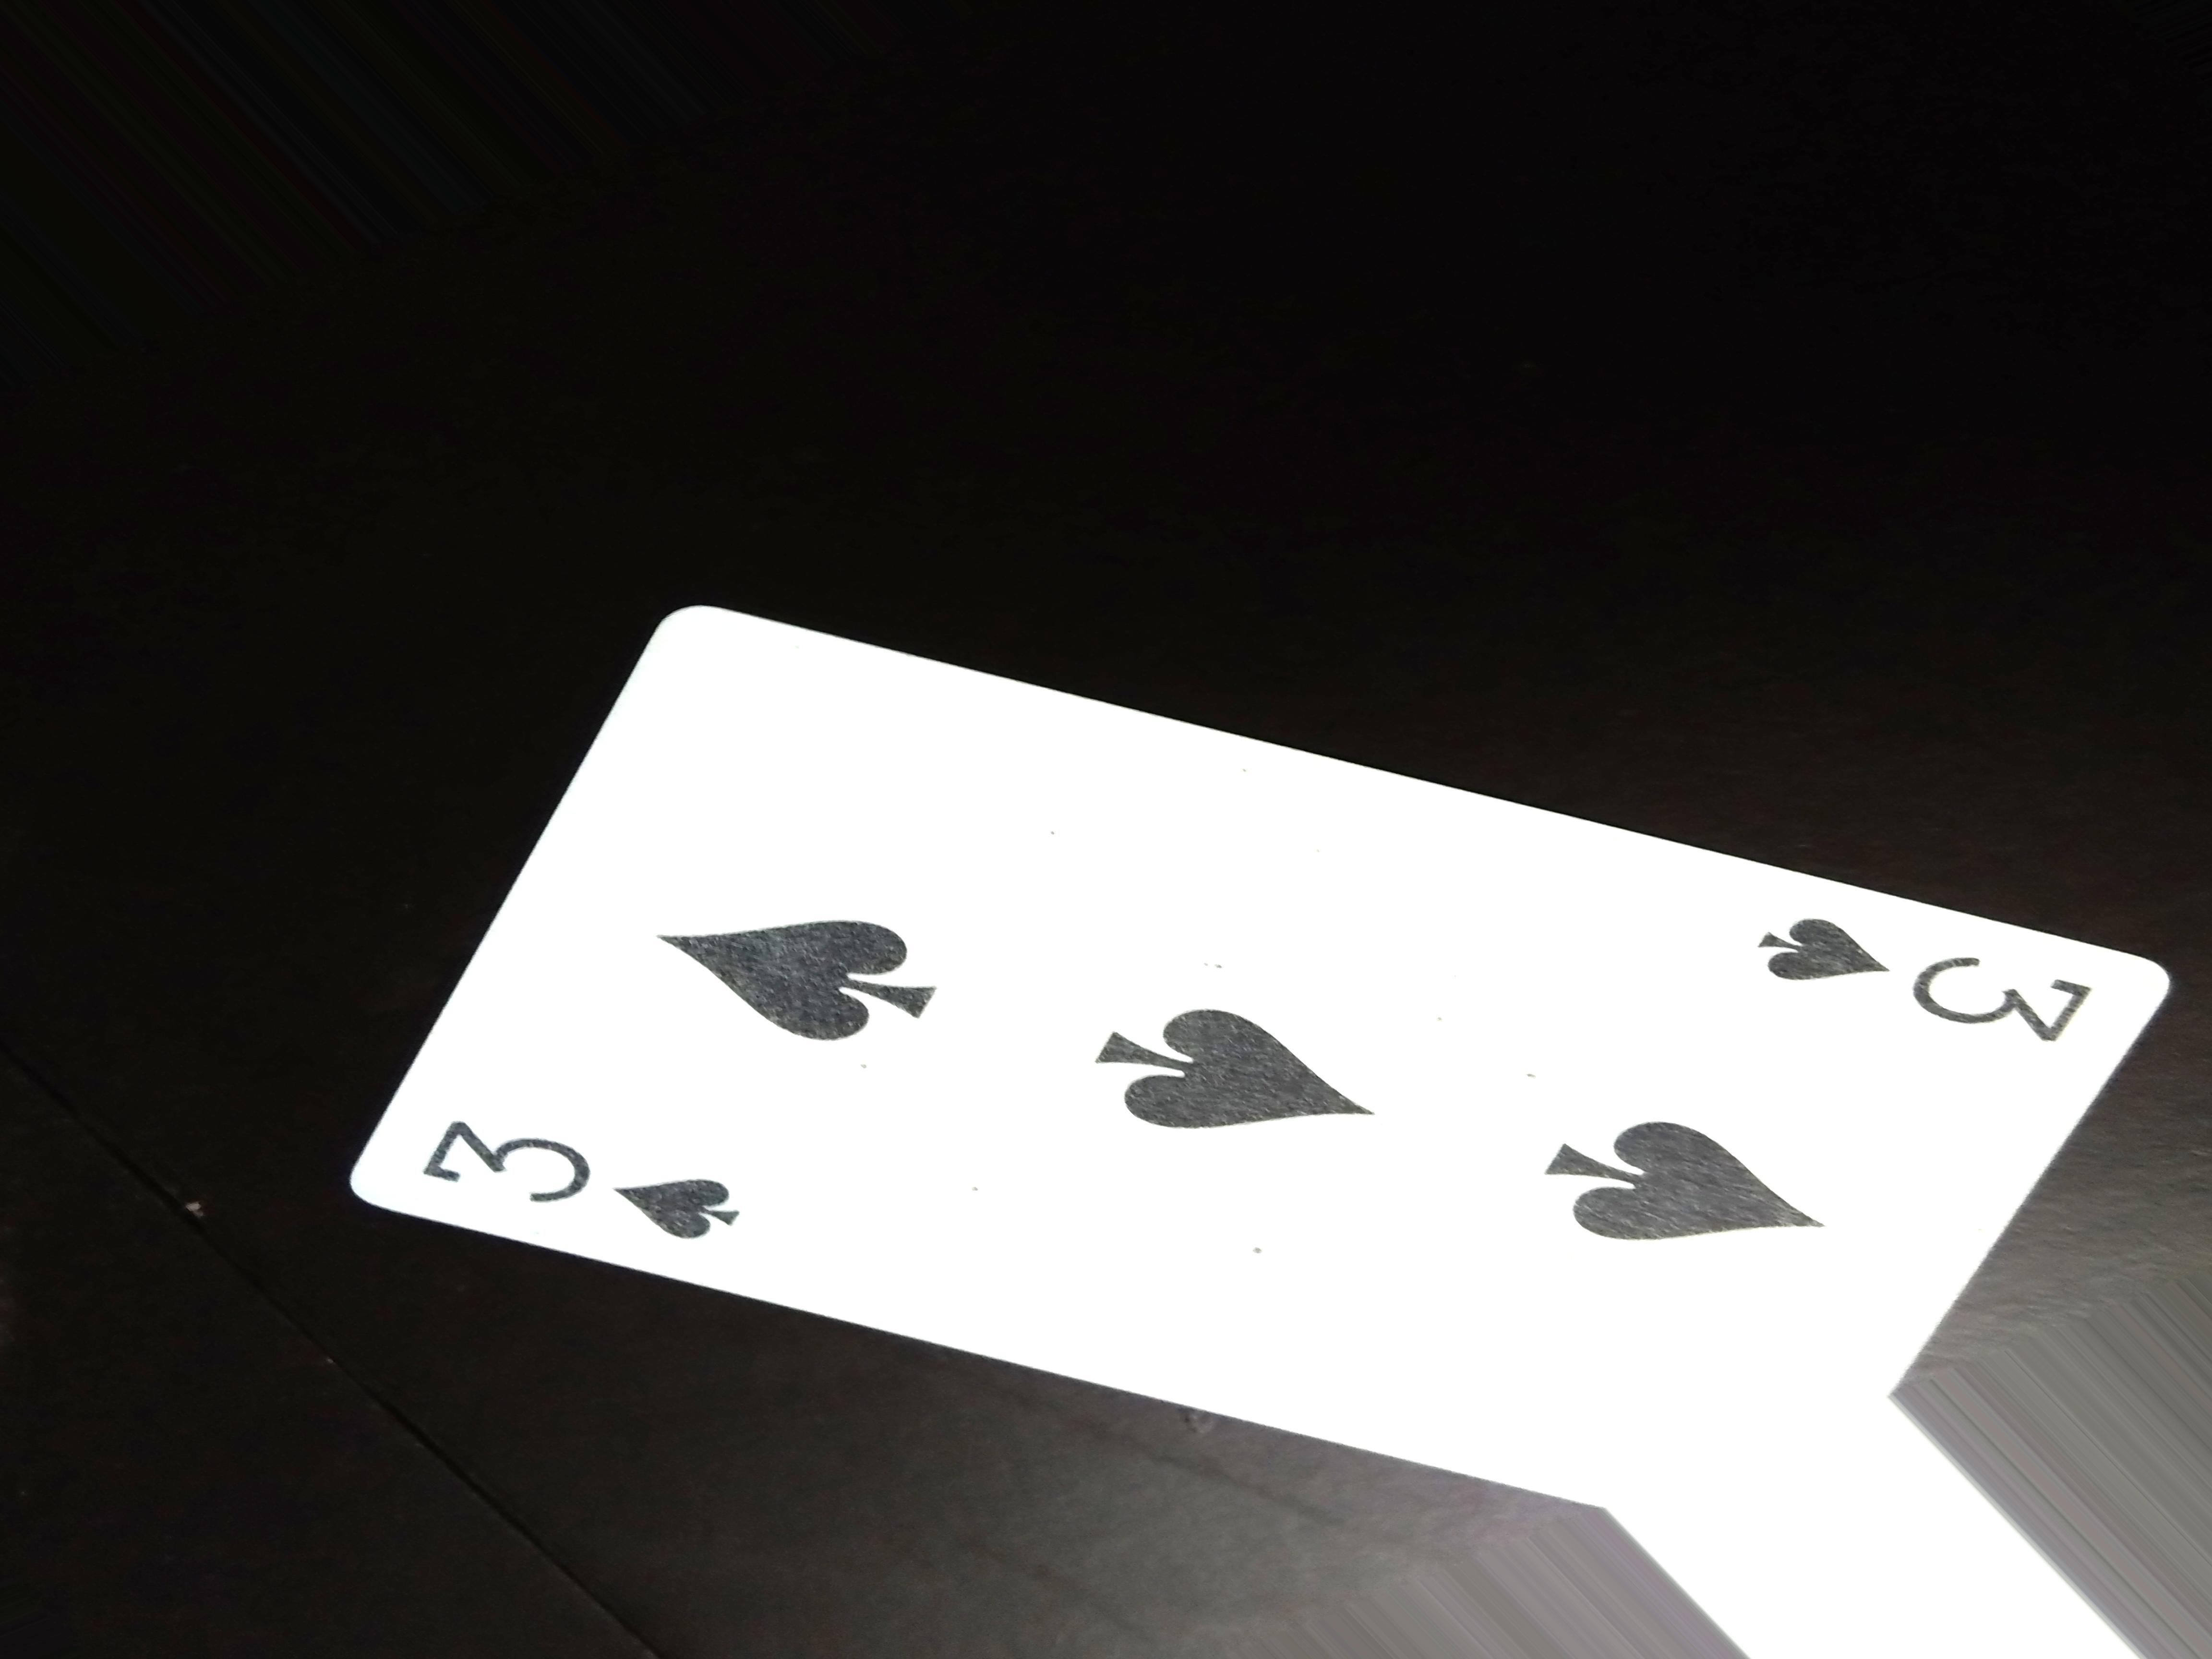3S: (425, 1114, 777, 1270)
